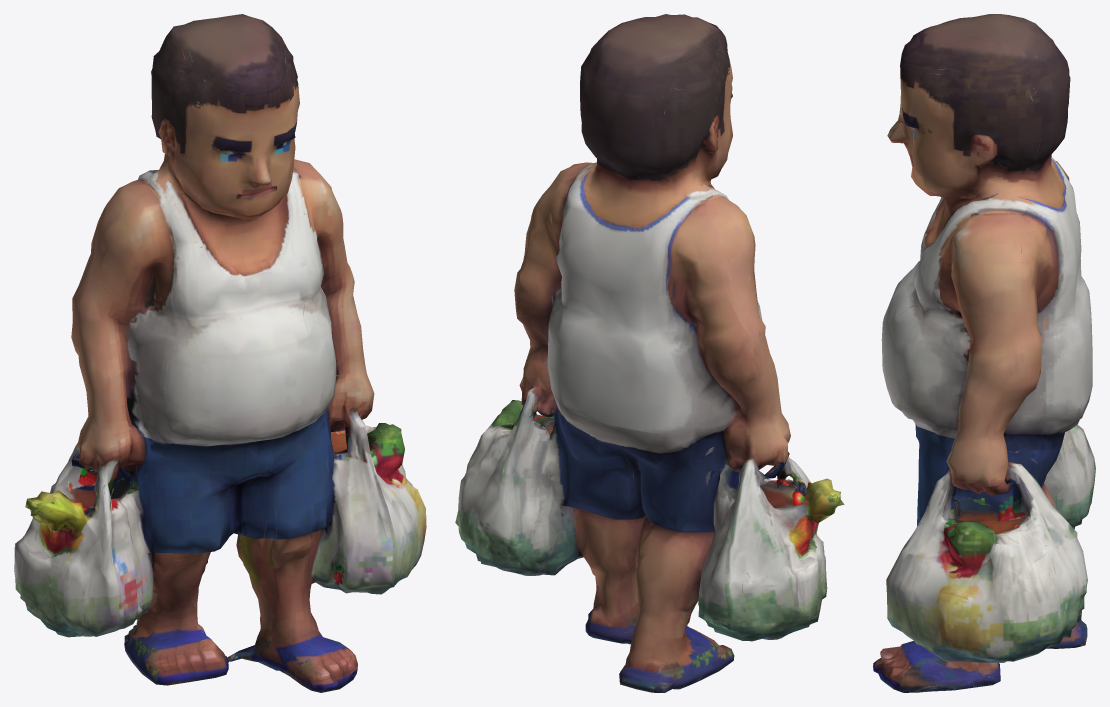
The model's file is uncle.glb.
3 views of the same model, side by side, from view 1: azimuth 30°, elevation 25°; view 2: azimuth 150°, elevation 25°; view 3: azimuth 270°, elevation 25° (orthographic). The views are drawn at different scales.
Size of the model in its own units: 1.25 by 2.01 by 0.6495.
Materials: 1 (1 with a texture image).
